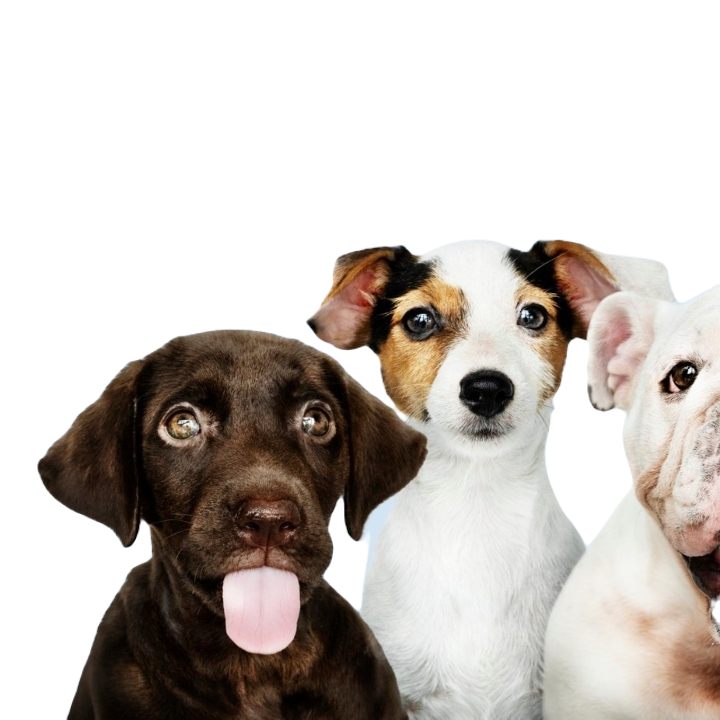Dog: (34, 279, 427, 719)
